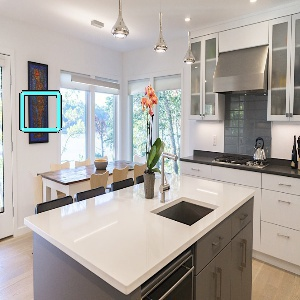square: (17, 89, 64, 134)
